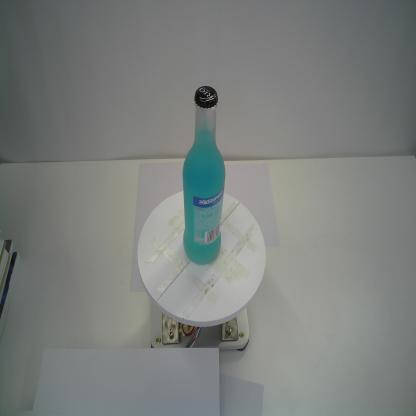Alcohol: (182, 85, 226, 265)
